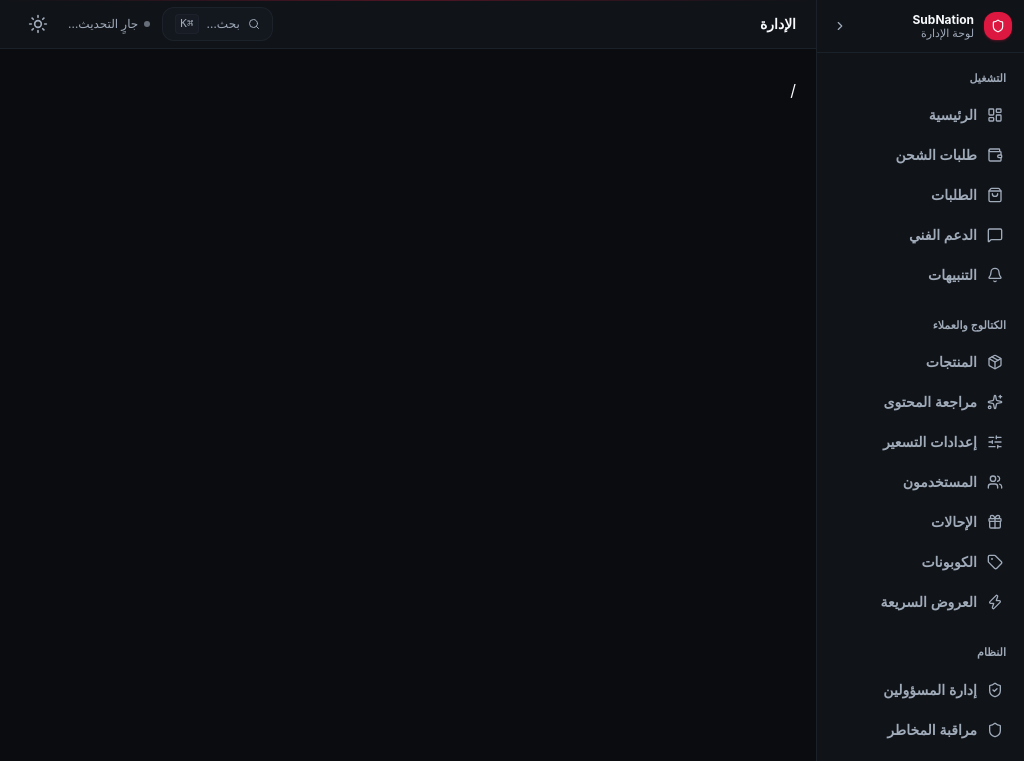
Test: AdminLayout GlobalSearch — no more silent failures or stale races (A2 P2-3) › clicking an orders result navigates WITH the query (?search= survives)
Click the button "بحث… ⌘K": (218, 24) [162,7,273,41]
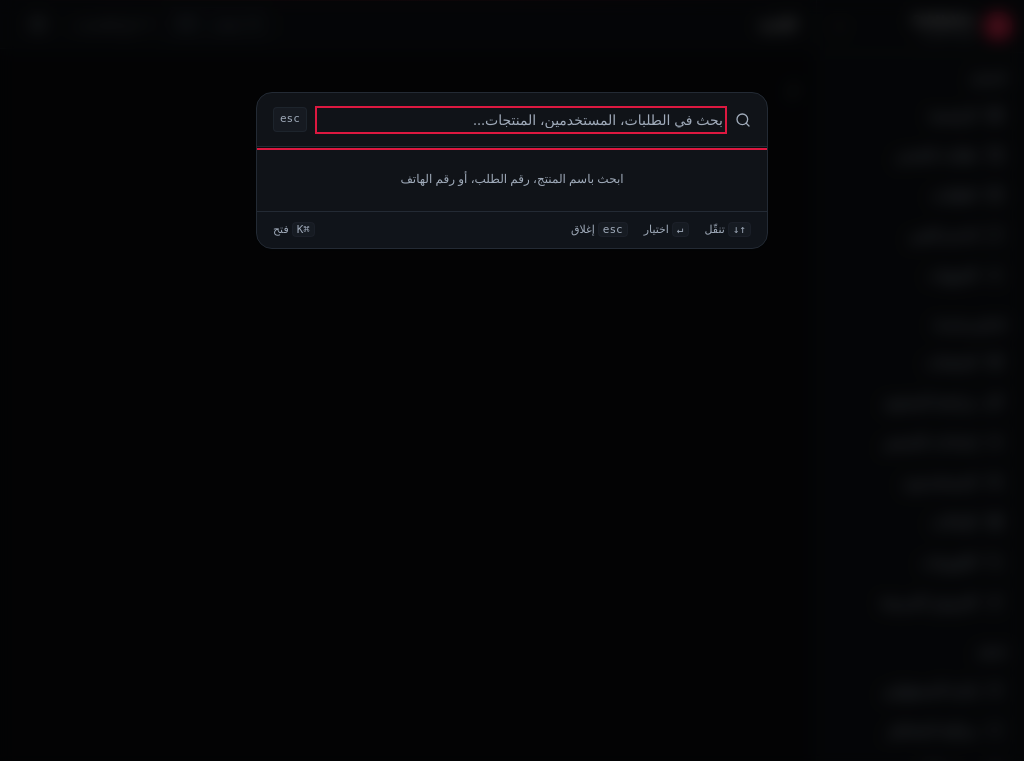
In the dropdown with placeholder "بحث في الطلبات، المستخدمين، المنتجات…": (521, 120) [319,110,723,130], type "abc"
Wait 220 ms
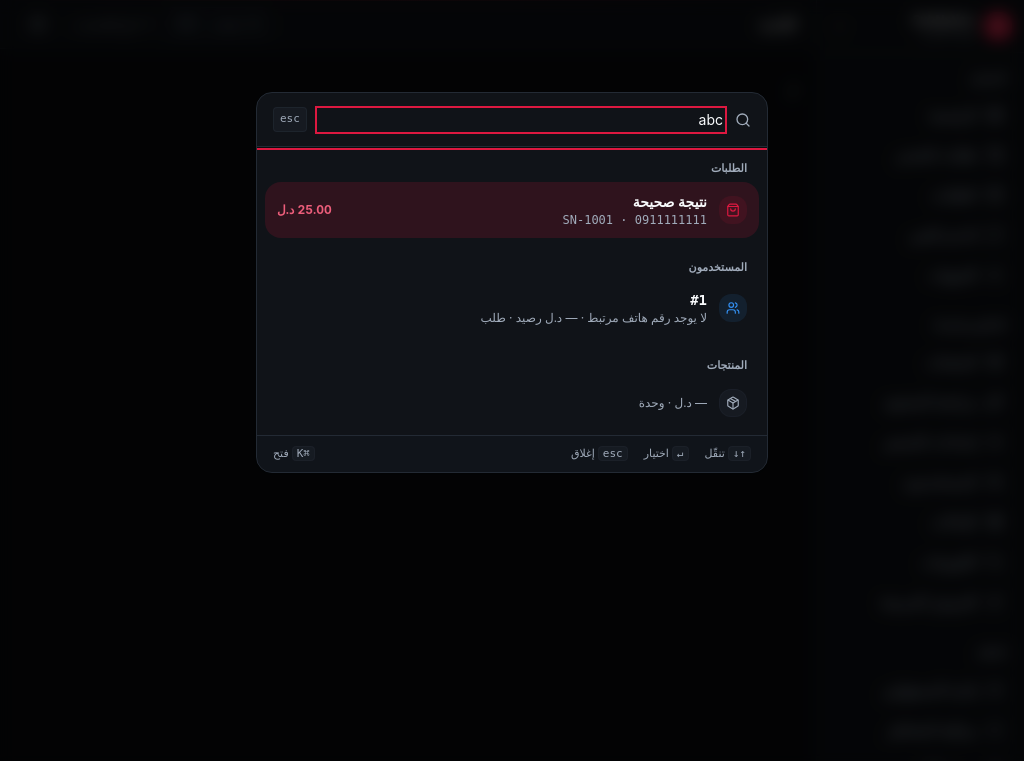
Click the option "نتيجة صحيحة": (670, 201) [265,182,759,238]
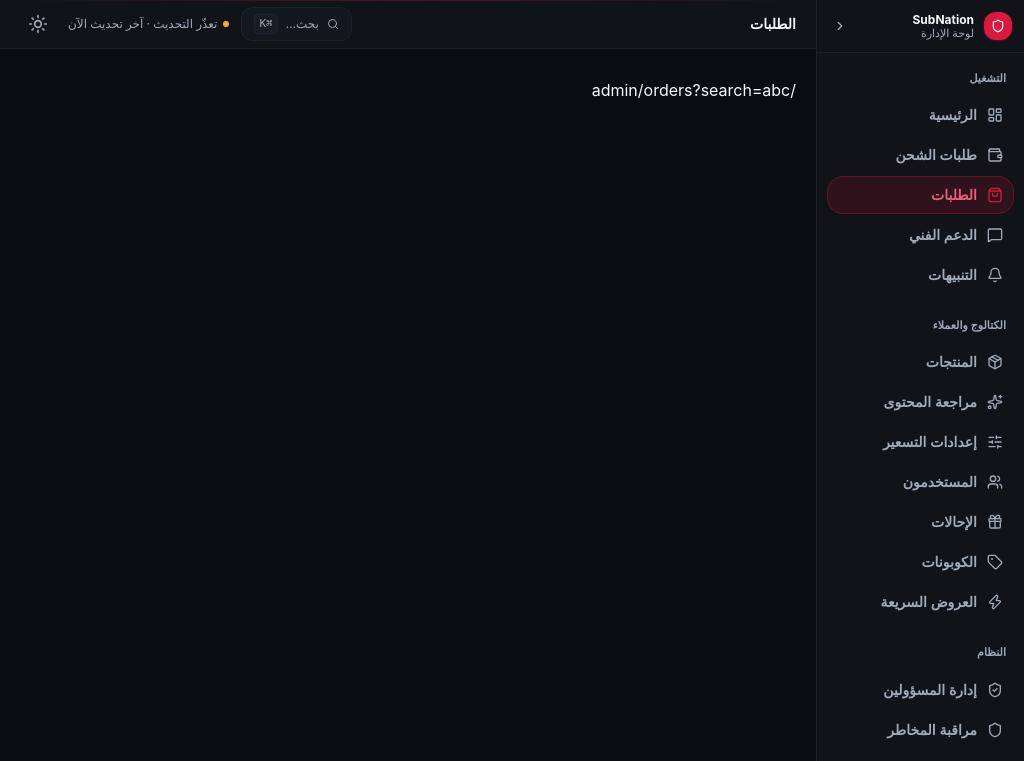
Check: the text with test id "location-probe" reads "/admin/orders?search=abc", box [592,80,796,100]
